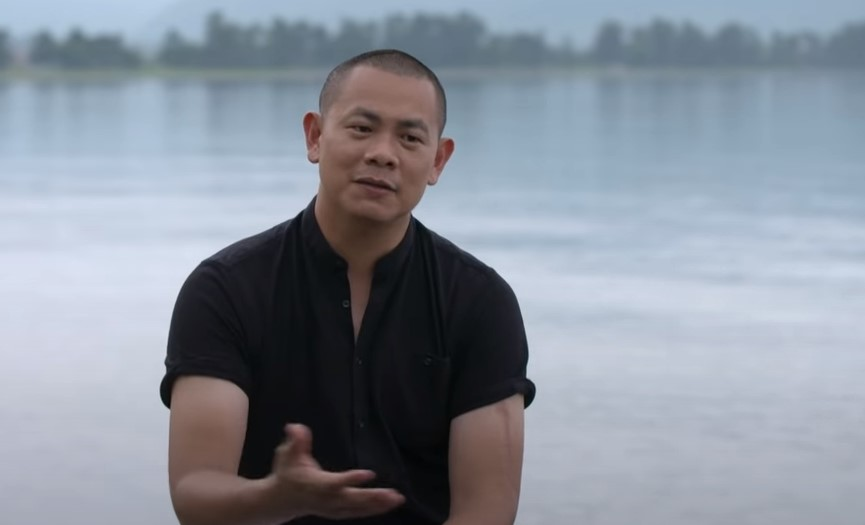face_no_mask: (303, 49, 455, 227)
